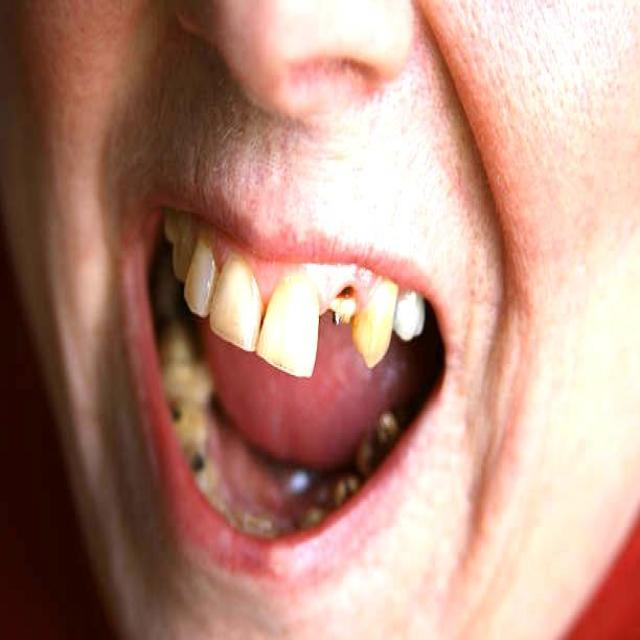caries: (317, 277, 365, 316)
